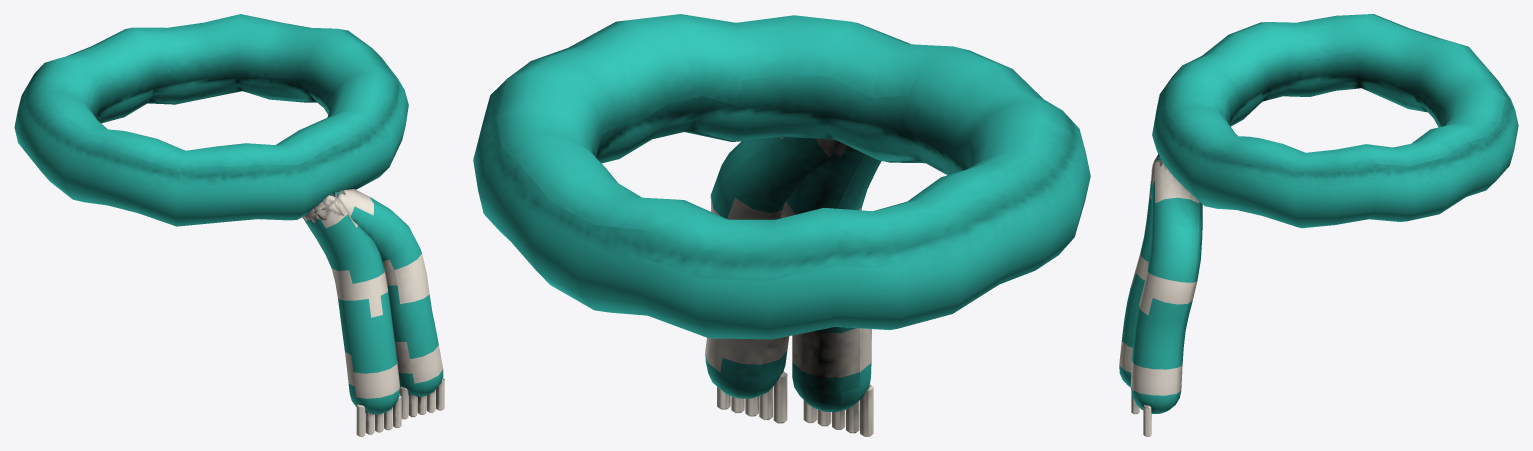
The model's file is scarf.glb.
3 views of the same model, side by side, from view 1: azimuth 30°, elevation 25°; view 2: azimuth 150°, elevation 25°; view 3: azimuth 270°, elevation 25° (orthographic). The views are drawn at different scales.
Visible parts, largest first — view 1: scarf; view 2: scarf; view 3: scarf.
Part boxes in pixels (x1=…): scarf: x1=14, y1=14, x2=444, y2=436; scarf: x1=473, y1=14, x2=1090, y2=436; scarf: x1=1119, y1=14, x2=1518, y2=436.
Size of the model in its own units: 0.4622 by 0.3768 by 0.4688.
Materials: 2 (2 with a texture image).
